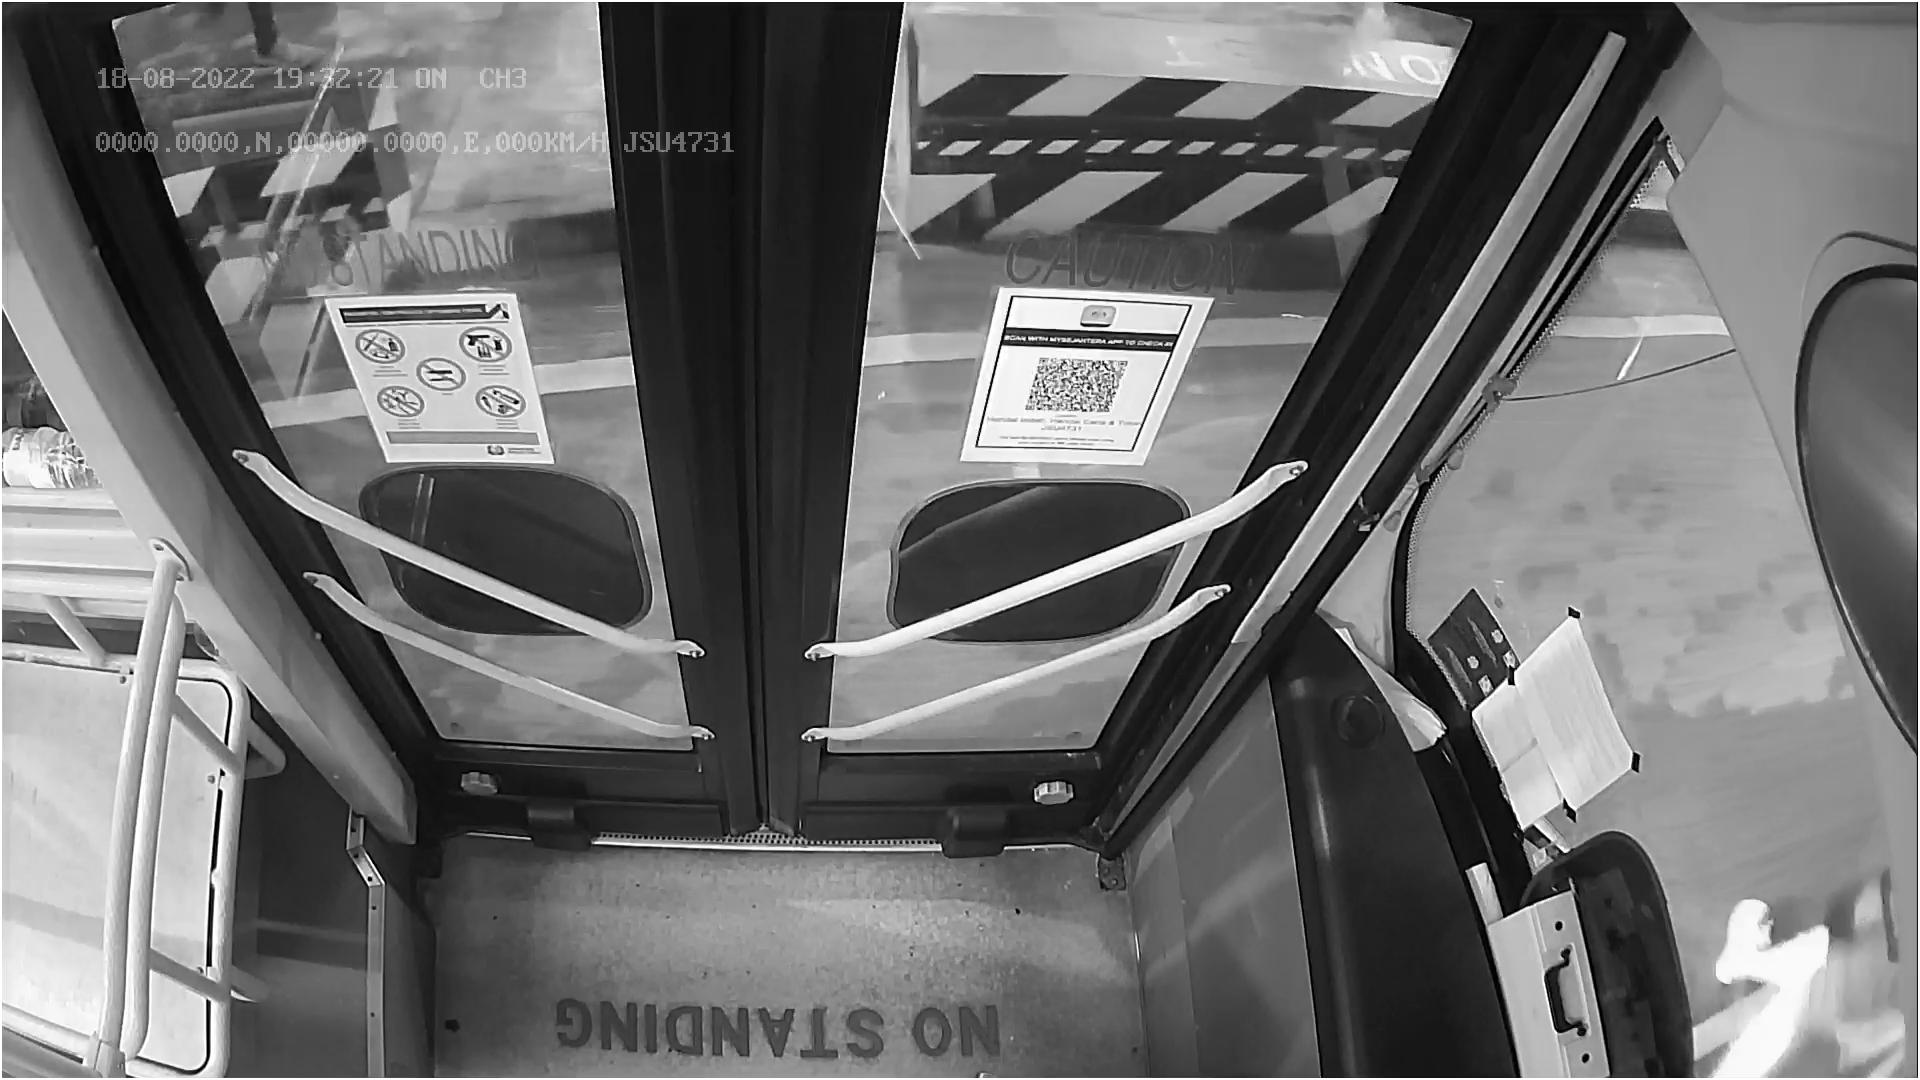close: (128, 0, 1452, 157)
